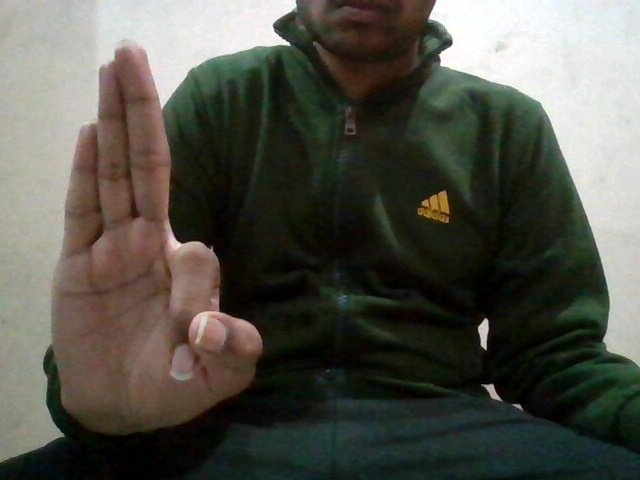F: (46, 38, 263, 430)
